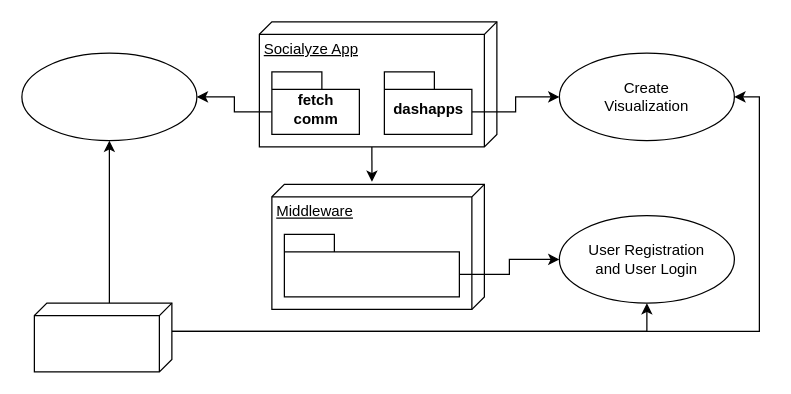
Image size: 791x394. Some labels were removed from this diagram. The shapes that lost their labels are listed below. From the top down, each one's centre as x and y in pixels, then its label:
At point 109,96: "Fetch Social Media Data".
At point 371,265: "django.auth.users".
At point 102,337: "PostgreSQL Database".
